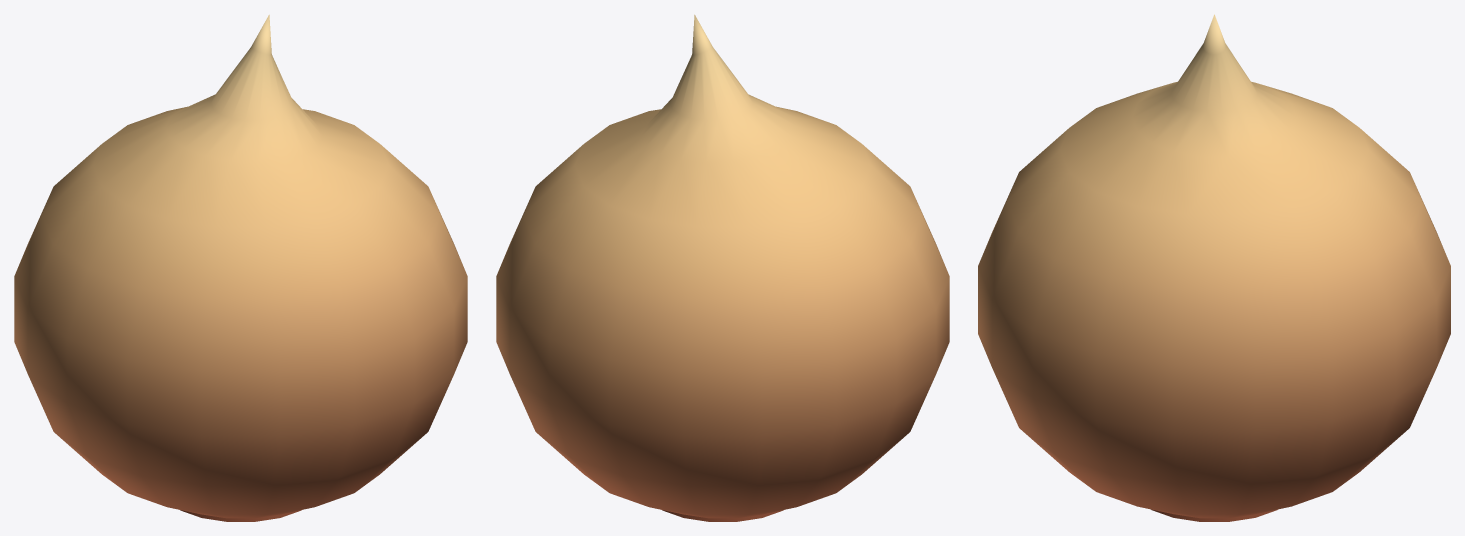
The model's file is Onion.fbx.
3 renders of one model, left to right at view 1: azimuth 30°, elevation 25°; view 2: azimuth 150°, elevation 25°; view 3: azimuth 270°, elevation 25°, orthographic. The views are drawn at different scales.
Visible parts, largest first — view 1: onion; view 2: onion; view 3: onion.
Boxes of the visible parts, x1,y1,x2,y2 form: onion: [14, 14, 467, 521]; onion: [496, 14, 949, 521]; onion: [978, 14, 1450, 521].
Bounding box in the file's own units: 0.212 × 0.2452 × 0.2152.
